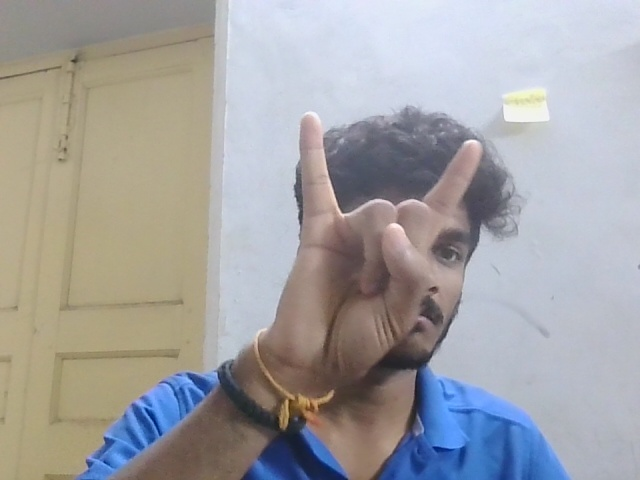Iloveyou: (260, 100, 489, 389)
